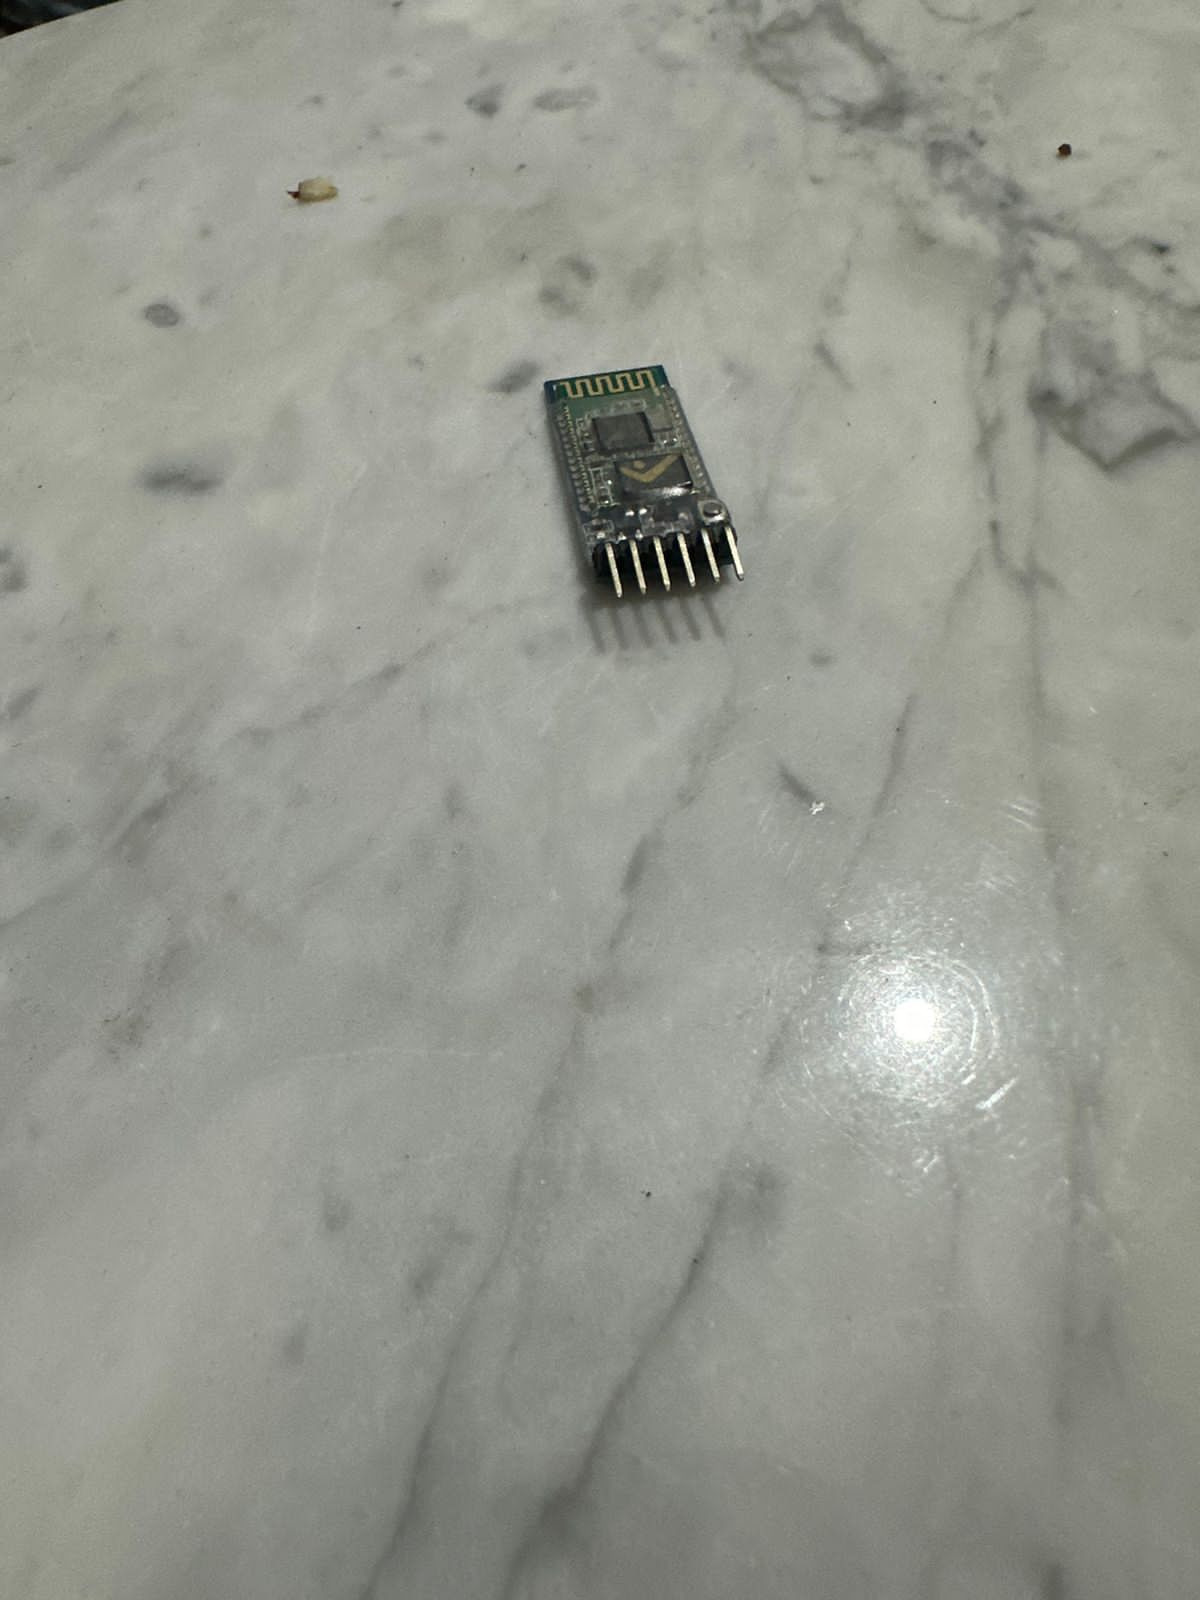module-bluetooth: (528, 351, 758, 609)
